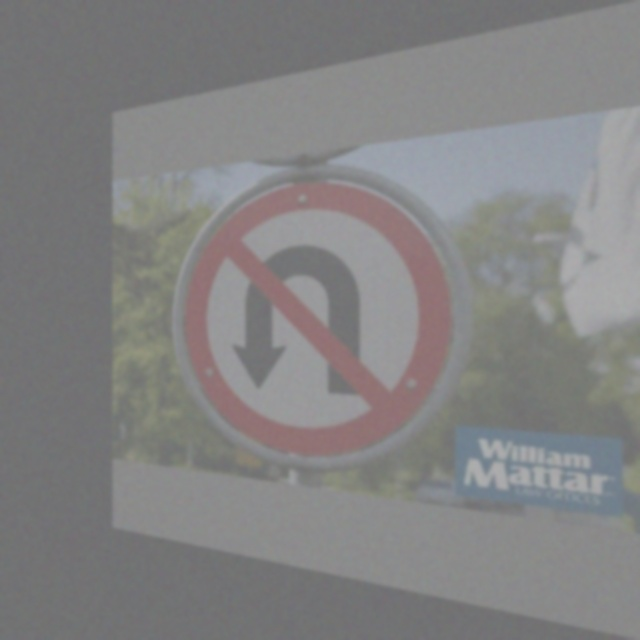U_Turn_Prohibited: (177, 152, 451, 458)
